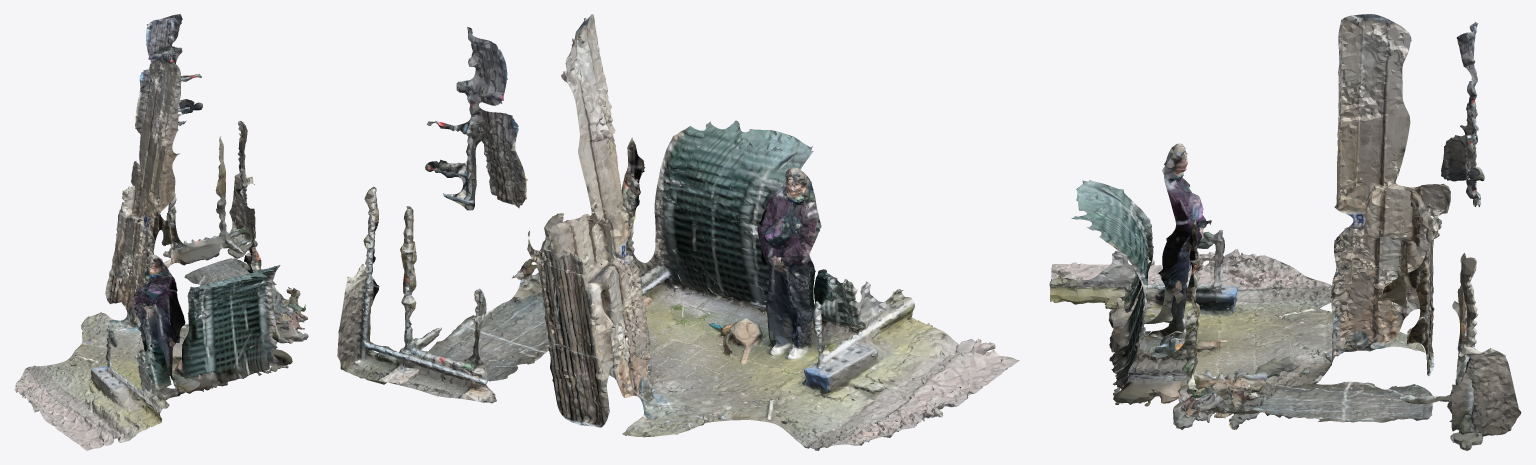
Rendered from S014_SidewalkBlock.glb.
3 views of the same model, side by side, from view 1: azimuth 30°, elevation 25°; view 2: azimuth 150°, elevation 25°; view 3: azimuth 270°, elevation 25° (orthographic). The views are drawn at different scales.
Parts seen in each view (by area): view 1: Object_4; view 2: Object_4; view 3: Object_4.
Boxes of the visible parts, x1,y1,x2,y2 form: Object_4: (14,14,308,450); Object_4: (337,14,1019,450); Object_4: (1049,14,1521,450).
Size of the model in its own units: 4.31 by 3.66 by 3.88.
Materials: 1 (1 with a texture image).
